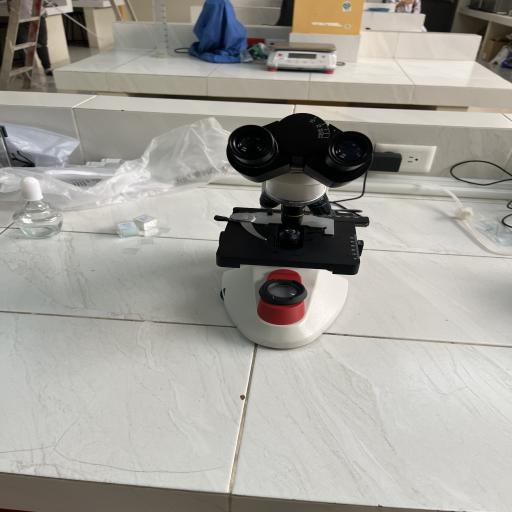Microscopio_Binocular: (196, 105, 378, 357)
